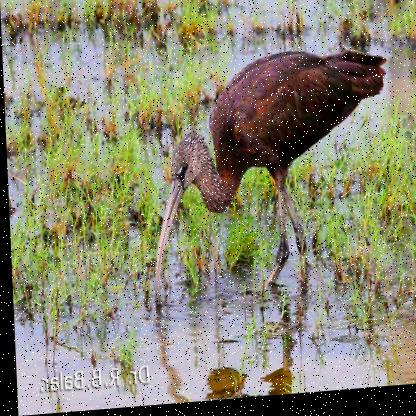Burung: (138, 49, 398, 308)
